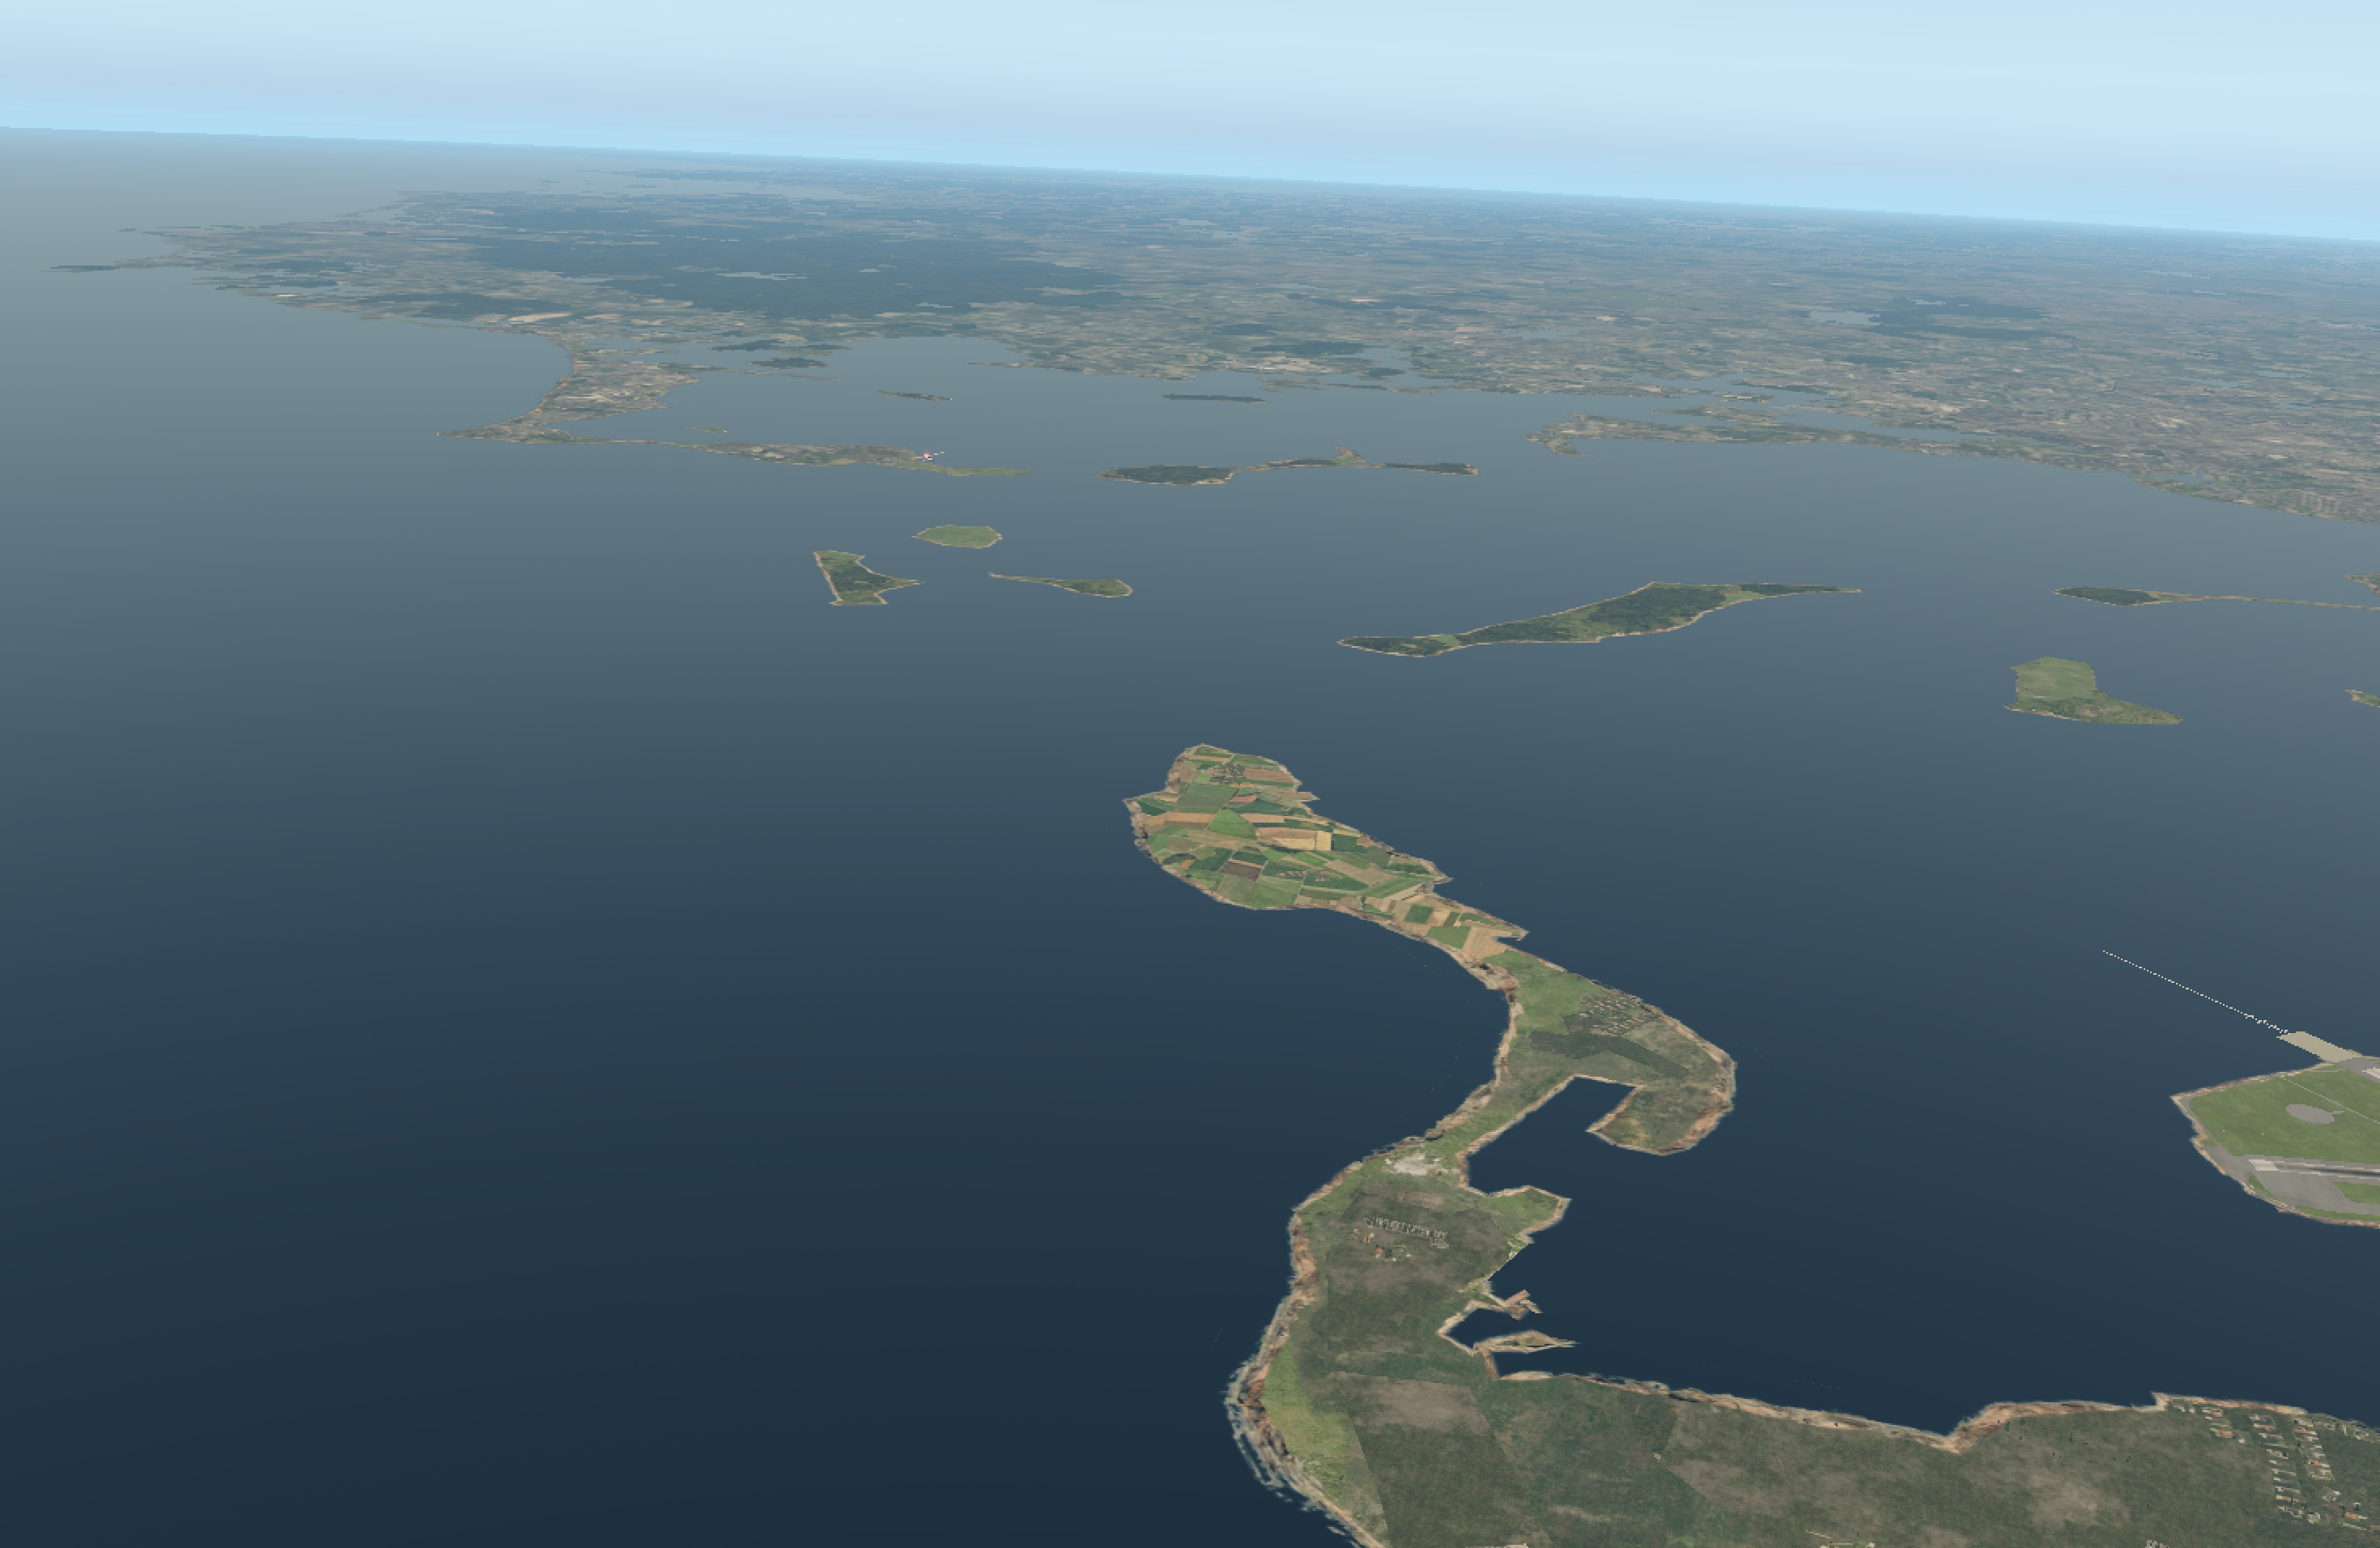aircraft: (918, 453, 942, 462)
